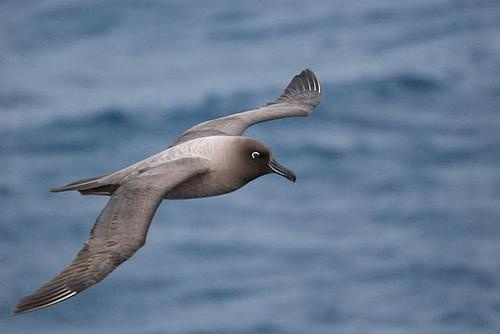bird: (13, 66, 322, 314)
